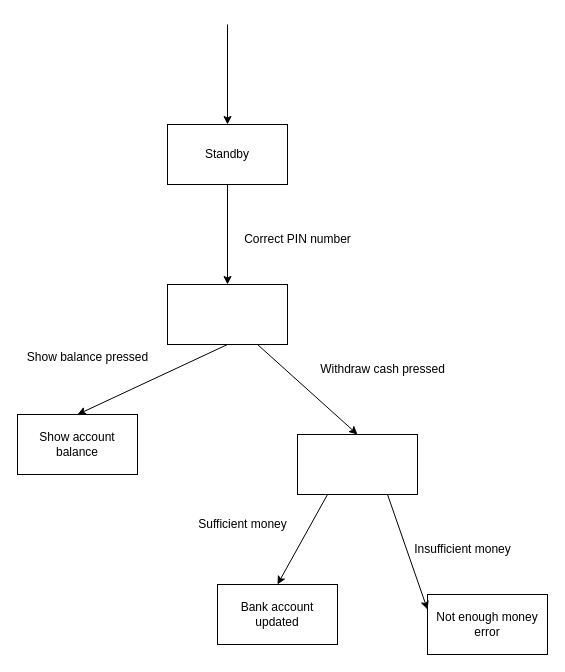
This 565x672 diagram has some shape labels left out. Each missing label, with the centre of its shape:
"Show menu" belongs at point 227,314.
"Withdraw Cash" belongs at point 357,464.
